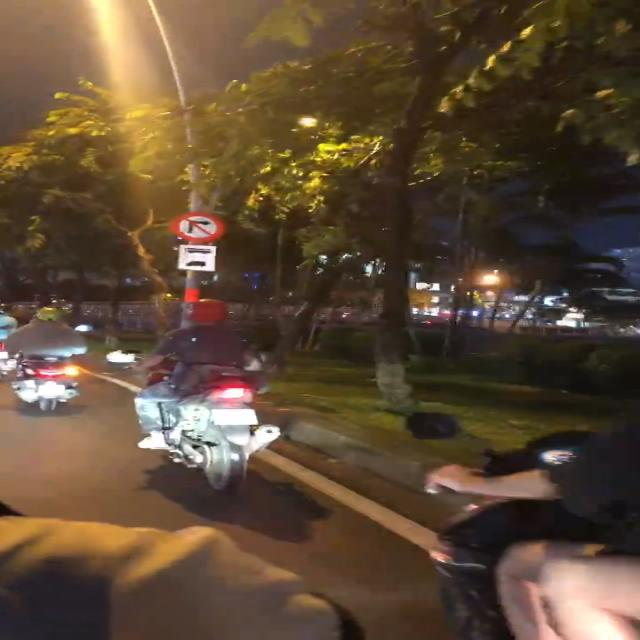Bien bao cam re phai: (172, 210, 229, 241)
